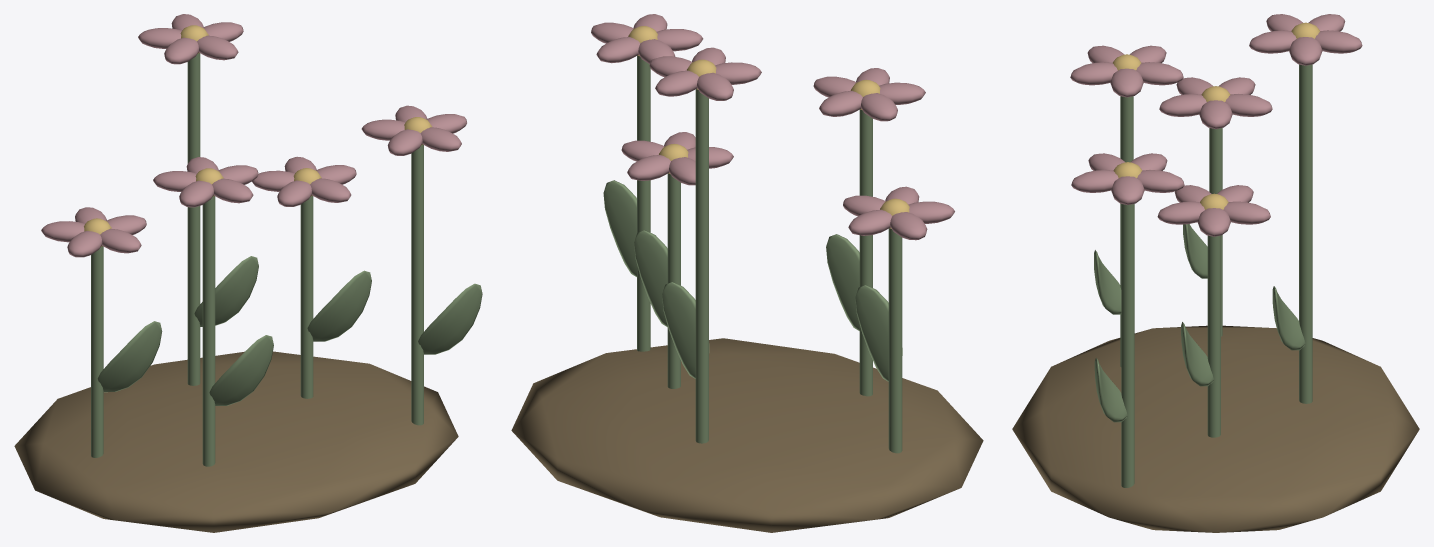
Rendered from flowers.glb.
3 views of the same model, side by side, from view 1: azimuth 30°, elevation 25°; view 2: azimuth 150°, elevation 25°; view 3: azimuth 270°, elevation 25° (orthographic). The views are drawn at different scales.
Visible parts, largest first — view 1: grounded-soil-bed, flower-2-stem, flower-1-stem, flower-4-stem, flower-3-stem, flower-0-stem, flower-4-leaf, flower-0-leaf, flower-3-leaf, flower-1-leaf, flower-2-leaf, flower-3-petal-1 (+19 smaller); view 2: grounded-soil-bed, flower-2-stem, flower-0-stem, flower-4-stem, flower-1-stem, flower-2-leaf, flower-0-leaf, flower-4-leaf, flower-3-stem, flower-1-leaf, flower-3-leaf, flower-0-petal-4 (+18 smaller); view 3: grounded-soil-bed, flower-2-stem, flower-4-stem, flower-3-stem, flower-1-stem, flower-4-leaf, flower-2-leaf, flower-3-leaf, flower-0-stem, flower-1-leaf, flower-0-leaf, flower-2-petal-1 (+23 smaller).
Boxes of the visible parts, <box> form: grounded-soil-bed: <box>14,351,458,532</box>; flower-2-stem: <box>187,53,200,385</box>; flower-1-stem: <box>202,196,215,466</box>; flower-4-stem: <box>411,145,423,425</box>; flower-3-stem: <box>300,196,313,398</box>; flower-0-stem: <box>91,246,103,457</box>; flower-4-leaf: <box>418,283,482,354</box>; flower-0-leaf: <box>97,321,162,392</box>; flower-3-leaf: <box>307,270,371,341</box>; flower-1-leaf: <box>209,335,273,405</box>; flower-2-leaf: <box>194,256,258,326</box>; flower-3-petal-1: <box>310,178,351,202</box>; grounded-soil-bed: <box>511,338,983,532</box>; flower-2-stem: <box>695,89,708,443</box>; flower-0-stem: <box>888,228,902,453</box>; flower-4-stem: <box>637,55,650,351</box>; flower-1-stem: <box>859,109,872,396</box>; flower-2-leaf: <box>662,282,709,378</box>; flower-0-leaf: <box>855,285,902,381</box>; flower-4-leaf: <box>603,180,636,276</box>; flower-3-stem: <box>667,173,680,388</box>; flower-1-leaf: <box>826,234,859,330</box>; flower-3-leaf: <box>634,230,667,326</box>; flower-0-petal-4: <box>848,209,892,235</box>; grounded-soil-bed: <box>1012,325,1419,532</box>; flower-2-stem: <box>1299,64,1312,403</box>; flower-4-stem: <box>1121,204,1134,487</box>; flower-3-stem: <box>1207,235,1220,437</box>; flower-1-stem: <box>1120,96,1133,366</box>; flower-4-leaf: <box>1094,358,1127,422</box>; flower-2-leaf: <box>1272,286,1305,350</box>; flower-3-leaf: <box>1181,322,1213,386</box>; flower-0-stem: <box>1209,128,1222,336</box>; flower-1-leaf: <box>1094,250,1121,314</box>; flower-0-leaf: <box>1183,224,1207,278</box>; flower-2-petal-1: <box>1249,30,1296,53</box>.
Bounding box in the file's own units: 0.658 × 0.6482 × 0.546.
